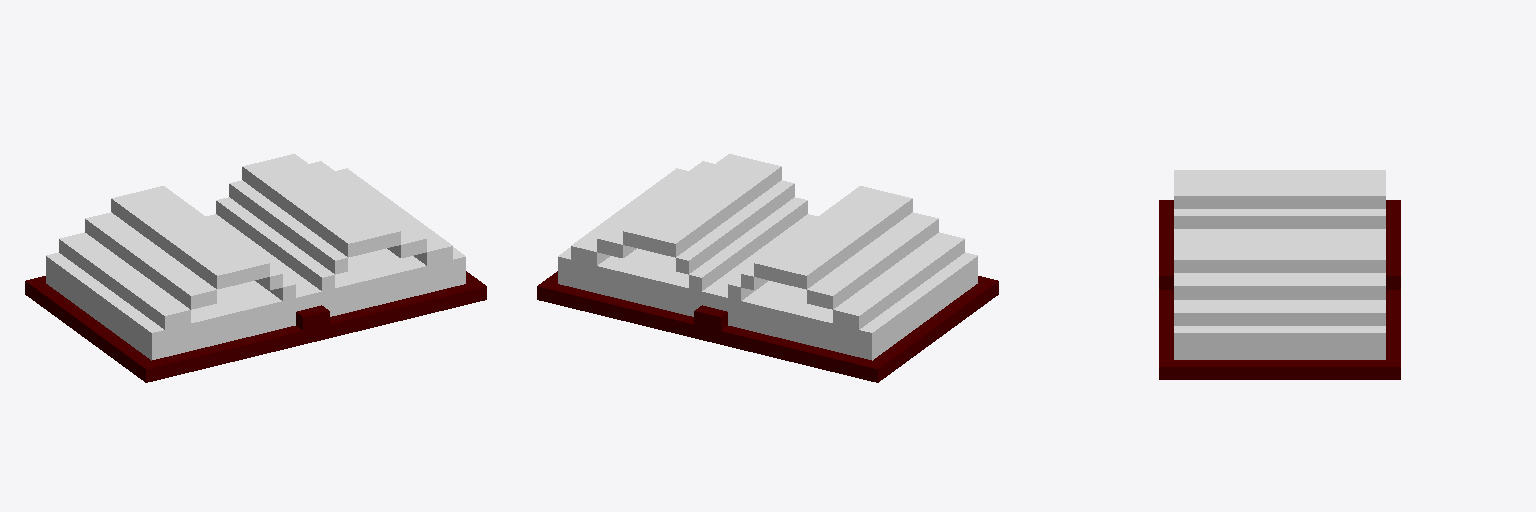
3 views of the same model, side by side, from view 1: azimuth 30°, elevation 25°; view 2: azimuth 150°, elevation 25°; view 3: azimuth 270°, elevation 25° (orthographic).
Parts seen in each view (by area): view 1: object 1; view 2: object 1; view 3: object 1.
Part boxes in pixels (left/top/right/bottom): object 1: left=25, top=154, right=486, bottom=382; object 1: left=537, top=154, right=998, bottom=382; object 1: left=1159, top=170, right=1400, bottom=379.
Size of the model in its own units: 2.6 by 0.6 by 1.6.
1 materials, 1 textured.